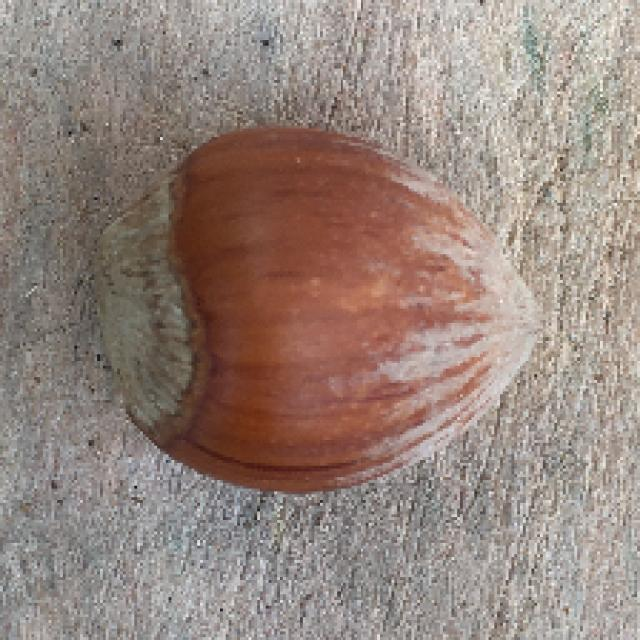qualityHazelnut: (78, 118, 546, 511)
